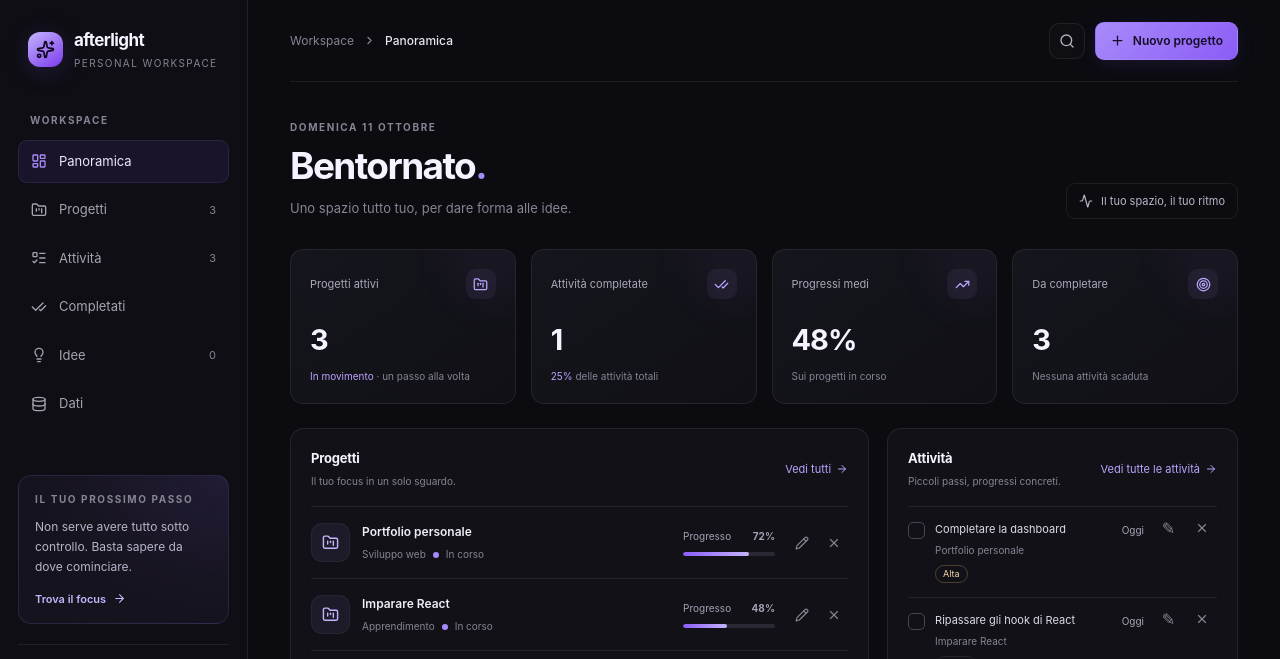
Scenario: Afterlight dashboard › salva i nuovi progetti in localStorage
Click the button "Nuovo progetto". click: (1166, 40)
box: [1095, 22, 1238, 60]
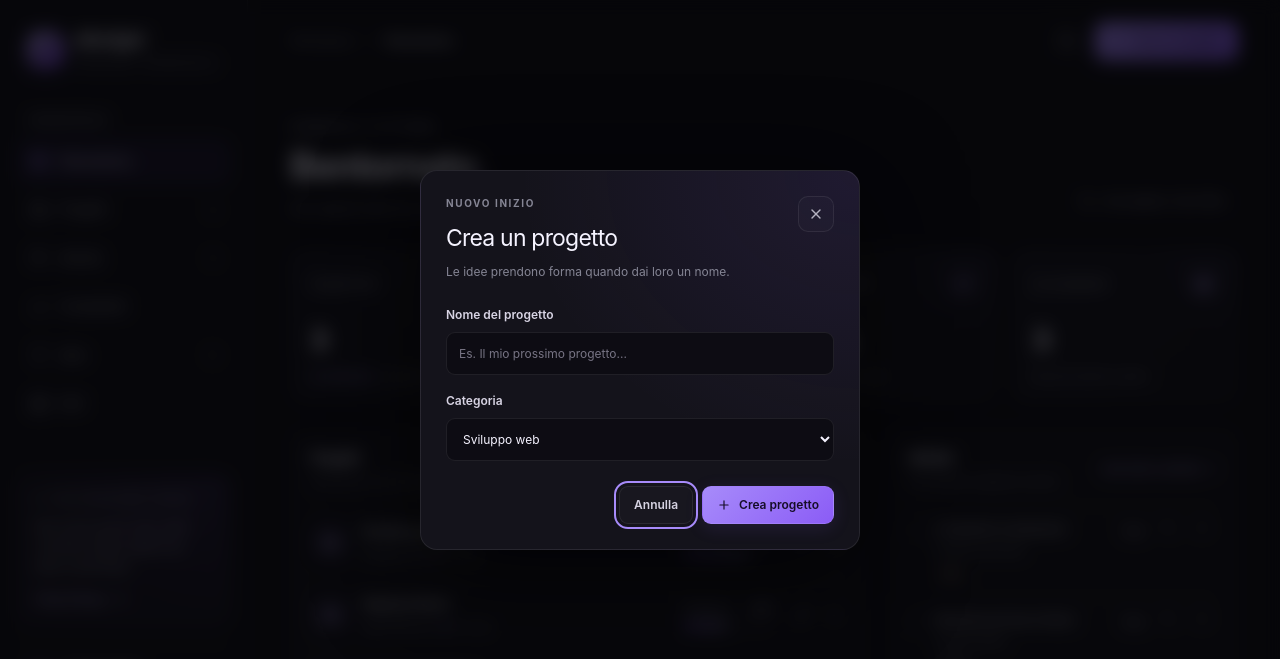
Type "Progetto persistente" into the field labelled "Nome del progetto". click: (640, 354)
box: [446, 332, 834, 375]
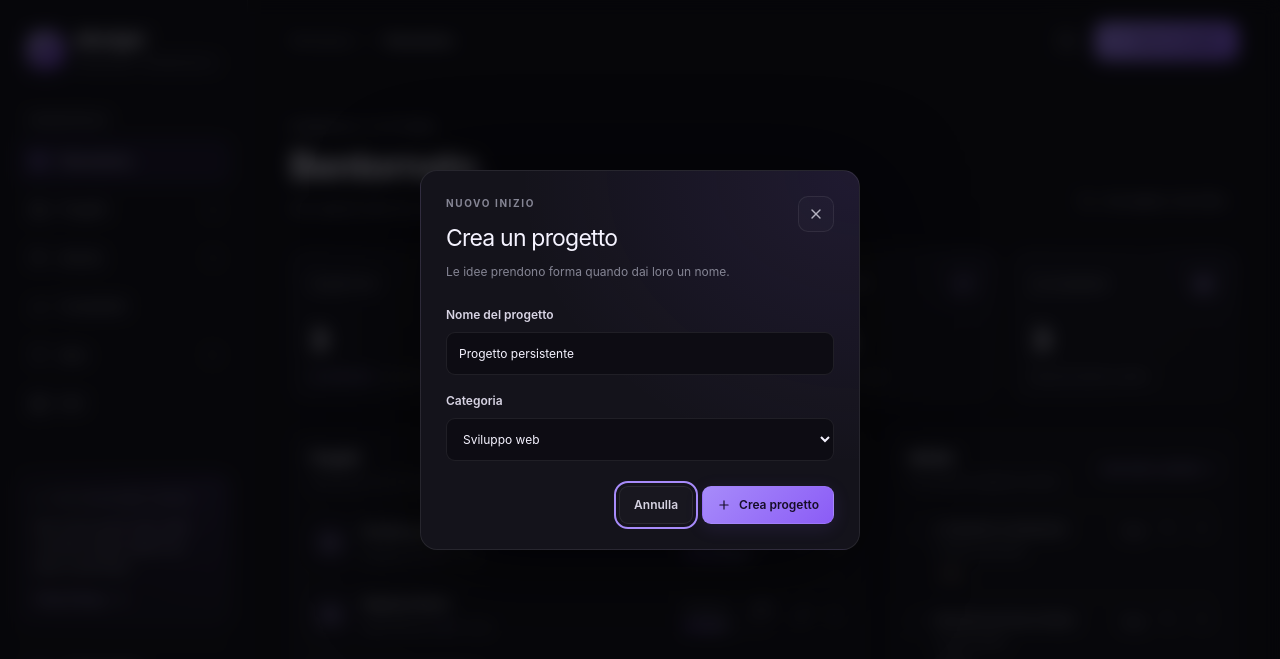
Click the button "Crea progetto". click: (768, 505)
box: [702, 486, 834, 524]
(page scrolled)
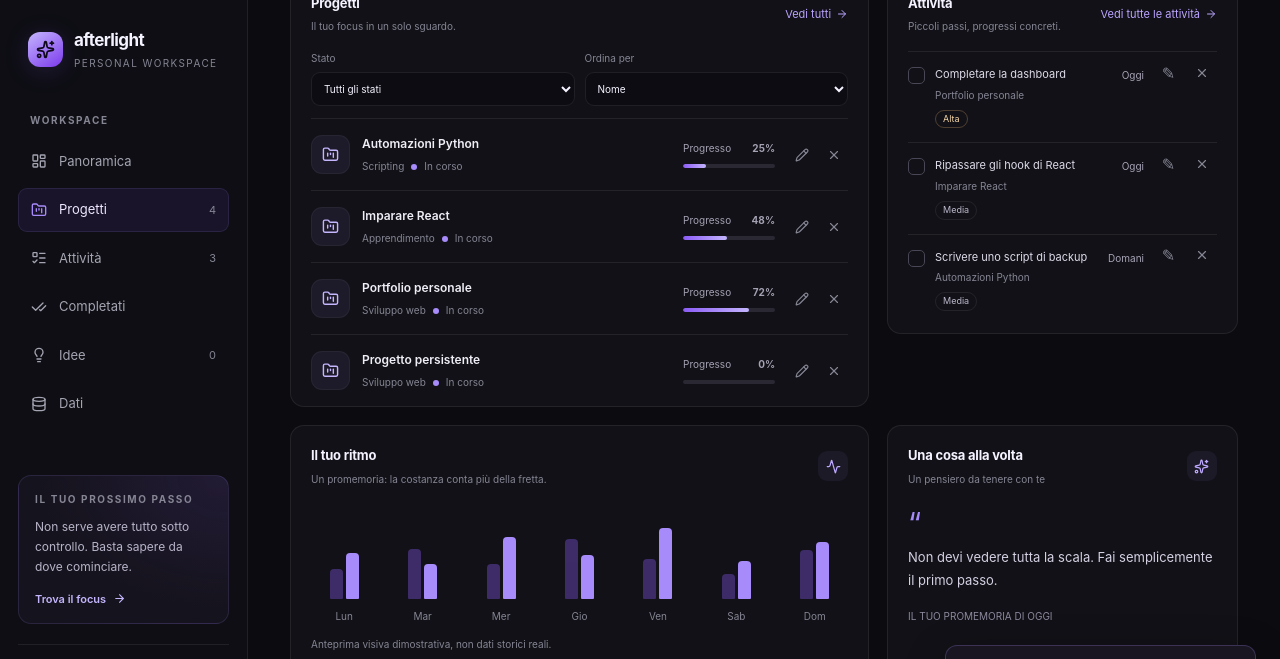
Now the text "Progetto persistente" is shown, box [362, 352, 480, 367]
